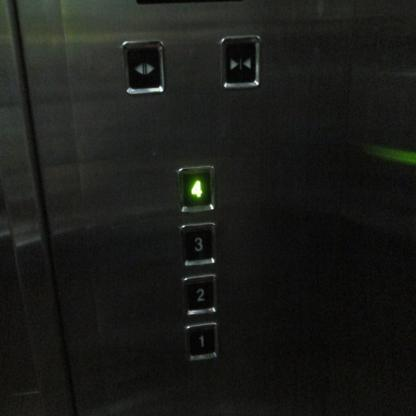1: (184, 321, 219, 363)
2: (181, 273, 218, 317)
3: (178, 222, 216, 269)
4: (176, 162, 216, 213)
close: (218, 34, 260, 88)
open: (120, 39, 165, 95)
